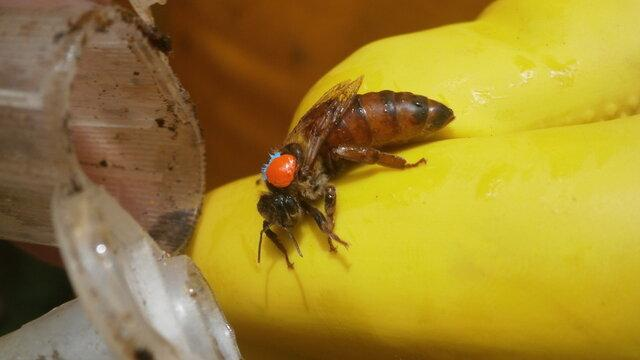Queen-Bee: (257, 76, 454, 267)
